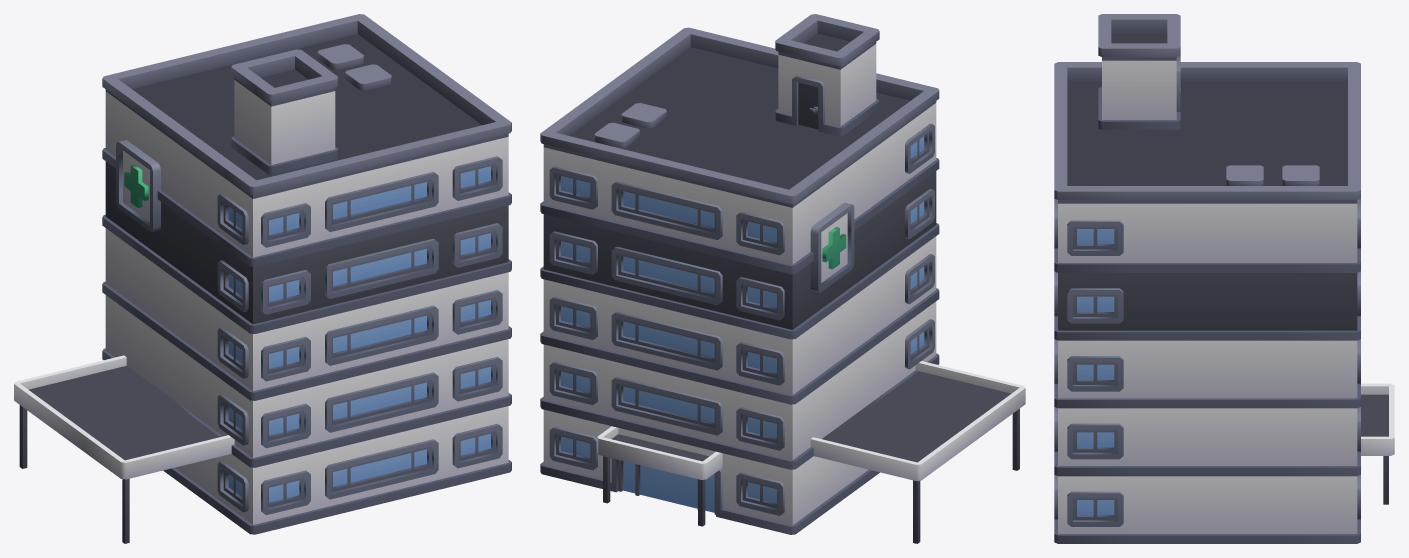
File: building-n.glb
3 renders of one model, left to right at view 1: azimuth 30°, elevation 25°; view 2: azimuth 150°, elevation 25°; view 3: azimuth 270°, elevation 25°, orthographic. The views are drawn at different scales.
Parts seen in each view (by area): view 1: building-n; view 2: building-n; view 3: building-n.
Part boxes in pixels (x1,y1,x2,y2): building-n: (14,14,511,543); building-n: (540,14,1025,543); building-n: (1054,14,1394,543).
Bounding box in the file's own units: 2.32 × 2.48 × 1.82.
1 material, 1 textured.
